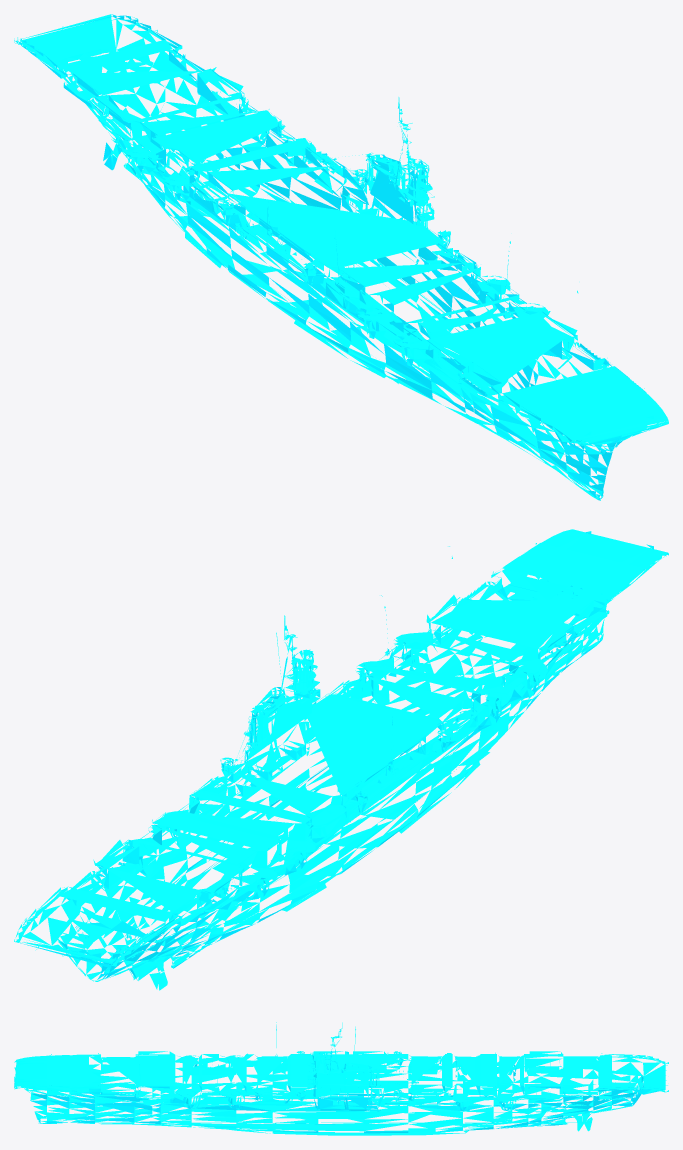
Rendered from Black_Chkalov.glb.
3 renders of one model, top to bottom at view 1: azimuth 30°, elevation 25°; view 2: azimuth 150°, elevation 25°; view 3: azimuth 270°, elevation 25°, orthographic. The views are drawn at different scales.
Size of the model in its own units: 2.59 by 3.4 by 16.75.
